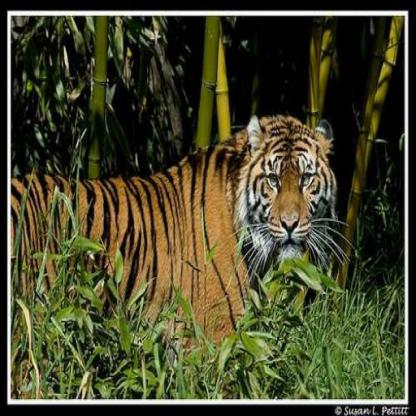Tiger: (9, 100, 354, 357)
